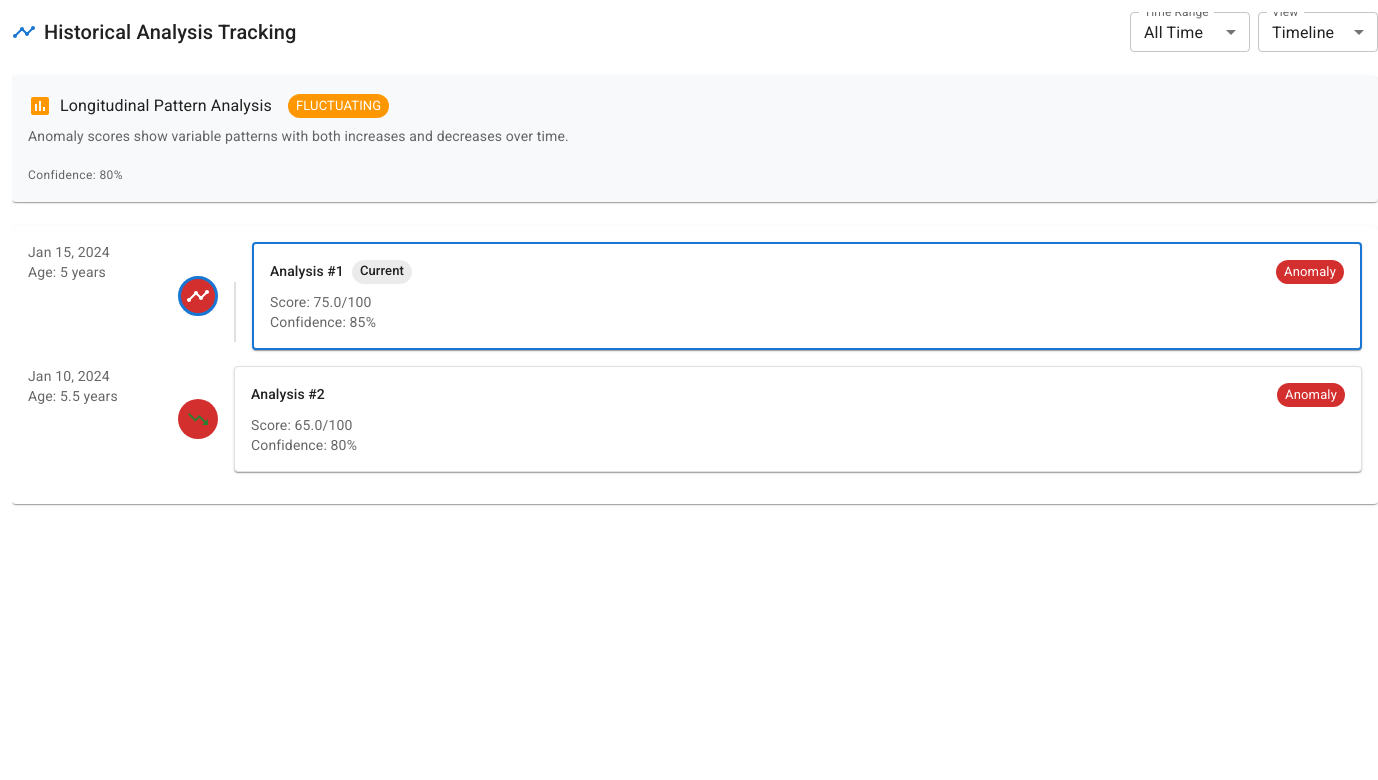
Comparative Analysis and Export Features › HistoricalInterpretationTracker › switches between different view modes
Expected: the heading "Historical Analysis Tracking" is shown, [44,16,296,48]
Step 1. Press the mouse on the dropdown labelled "Timeline" → (1303, 32), box [1272,22,1334,42]
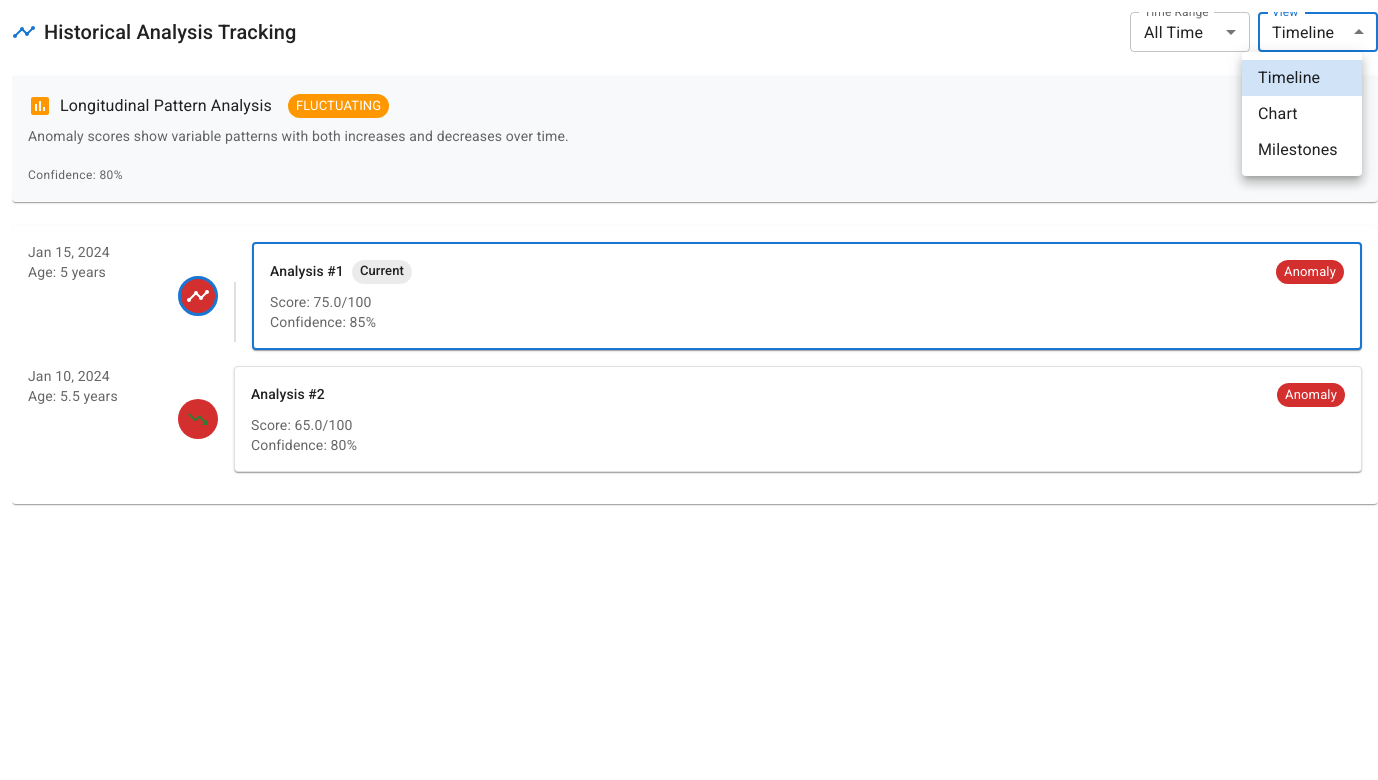
// Wait for the menu to appear and click Chart option
Step 2. Click the option "Chart" → click(1278, 114), box [1258,104,1298,123]
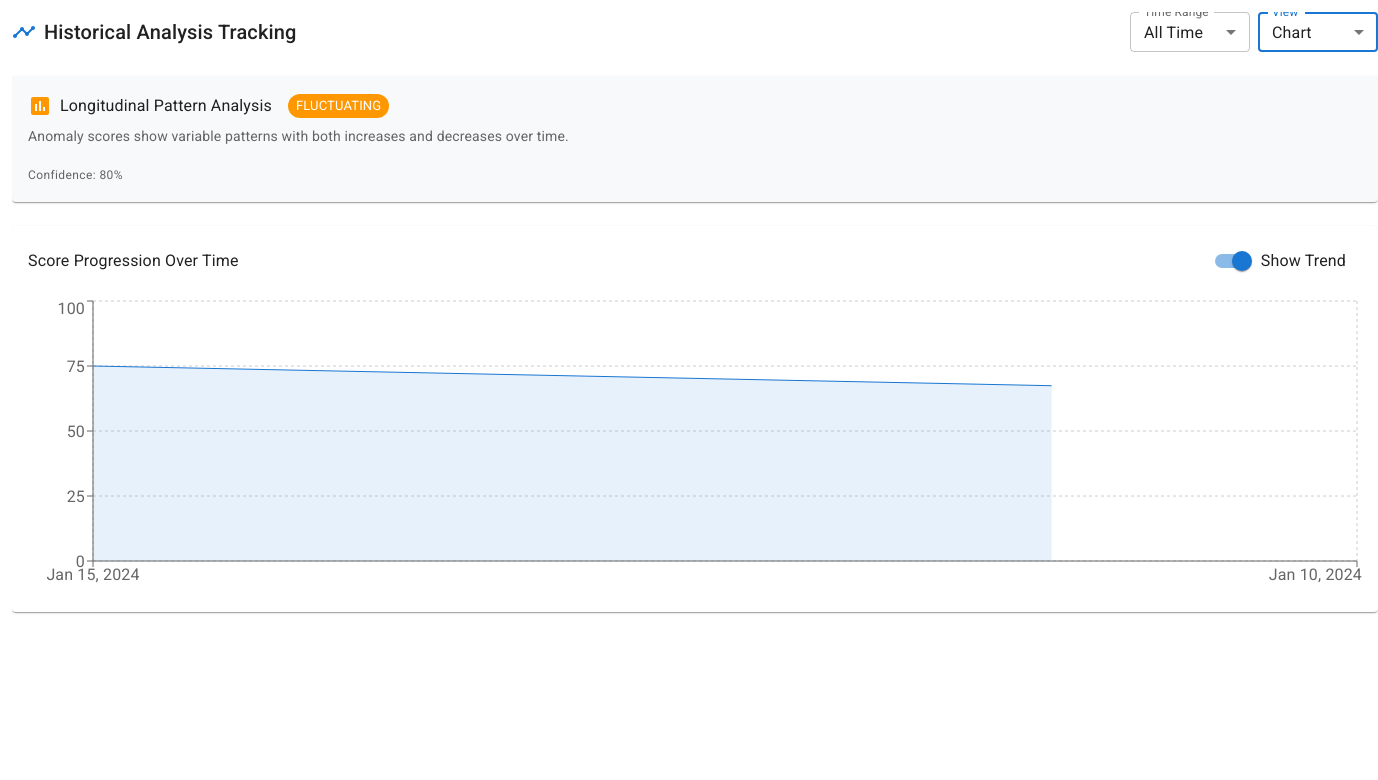
Now the heading "Score Progression Over Time" is shown, box [28,247,238,275]
